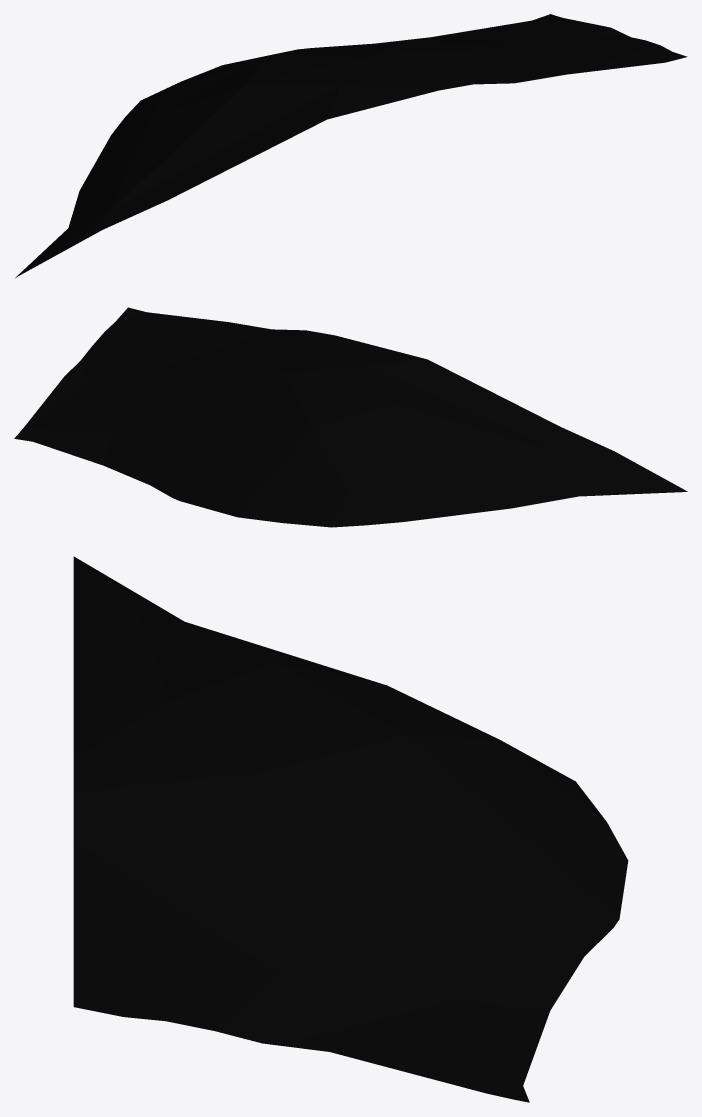
3 renders of one model, top to bottom at view 1: azimuth 30°, elevation 25°; view 2: azimuth 150°, elevation 25°; view 3: azimuth 270°, elevation 25°, orthographic. The views are drawn at different scales.
Bounding box in the file's own units: 0.1129 × 0.0139 × 0.0484.
Materials: 1 (1 with a texture image).
